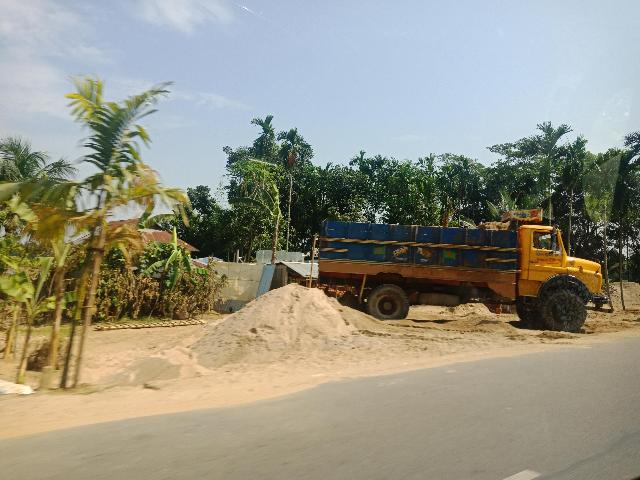truck: (312, 199, 605, 361)
